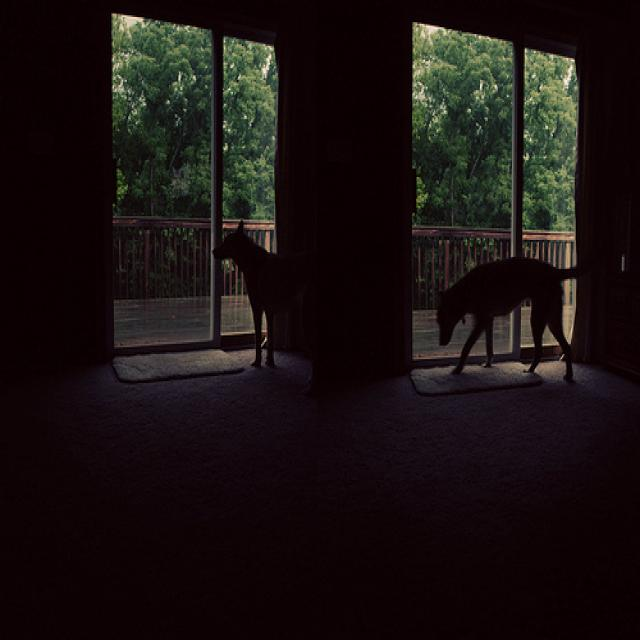Dog: (215, 196, 361, 410), (439, 237, 619, 400)
